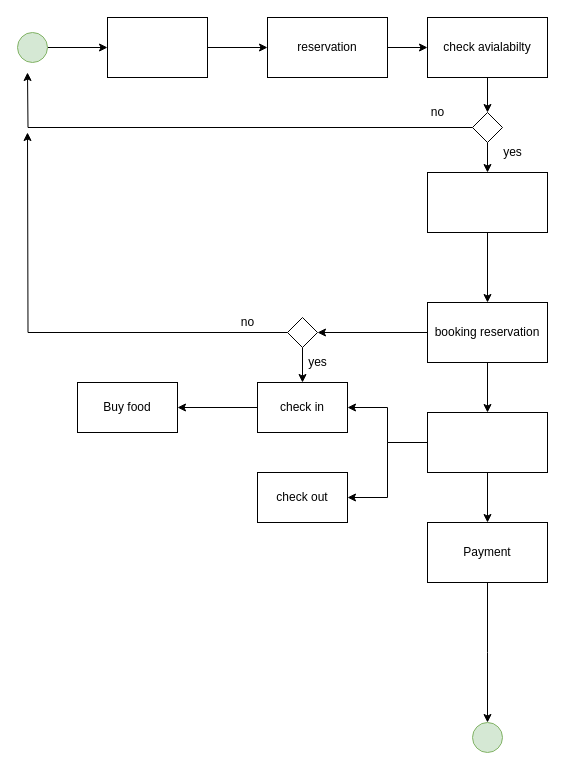
Image size: 565x770. Some labels were removed from this diagram. Each missing label, with the box of its shape:
confirm reservation: (426, 412, 548, 472)
make reservation: (426, 172, 548, 232)
select hotel: (106, 16, 208, 78)
